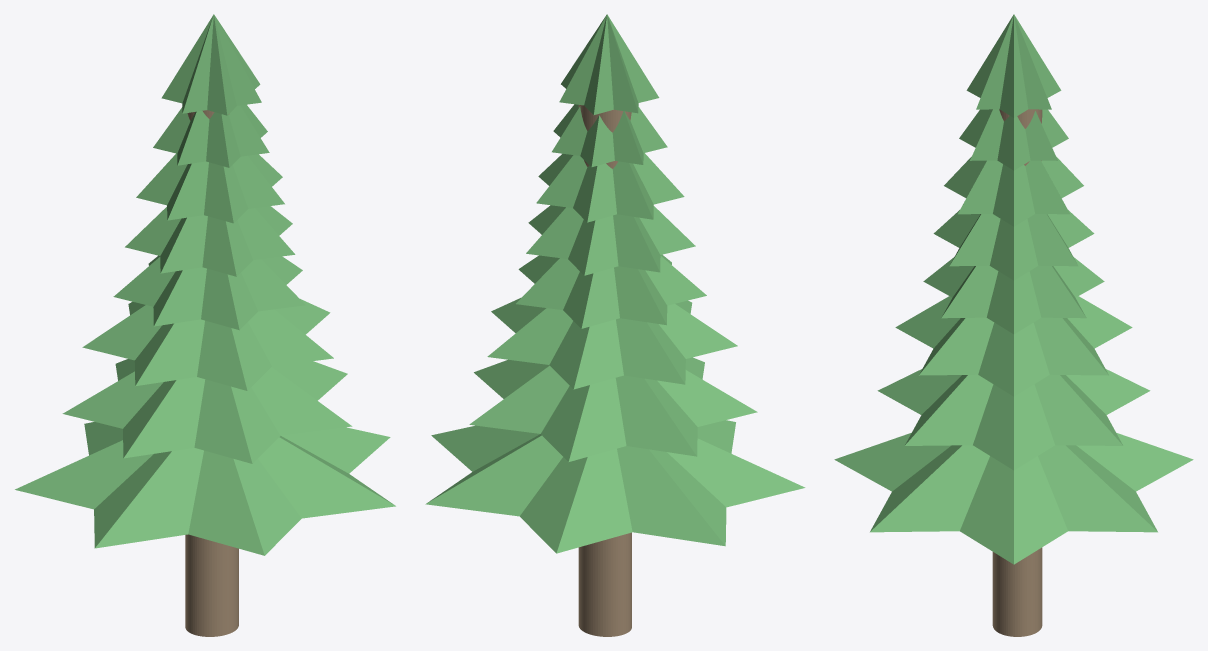
Rendered from tree.glb.
3 renders of one model, left to right at view 1: azimuth 30°, elevation 25°; view 2: azimuth 150°, elevation 25°; view 3: azimuth 270°, elevation 25°, orthographic.
Parts seen in each view (by area): view 1: Mesh_Mesh_head_geo.001_lambert2SG.001; view 2: Mesh_Mesh_head_geo.001_lambert2SG.001; view 3: Mesh_Mesh_head_geo.001_lambert2SG.001.
Part boxes in pixels (x1=…): Mesh_Mesh_head_geo.001_lambert2SG.001: x1=15, y1=14, x2=395, y2=636; Mesh_Mesh_head_geo.001_lambert2SG.001: x1=425, y1=14, x2=805, y2=636; Mesh_Mesh_head_geo.001_lambert2SG.001: x1=834, y1=14, x2=1193, y2=636.
Size of the model in its own units: 0.086 by 0.15 by 0.08.
